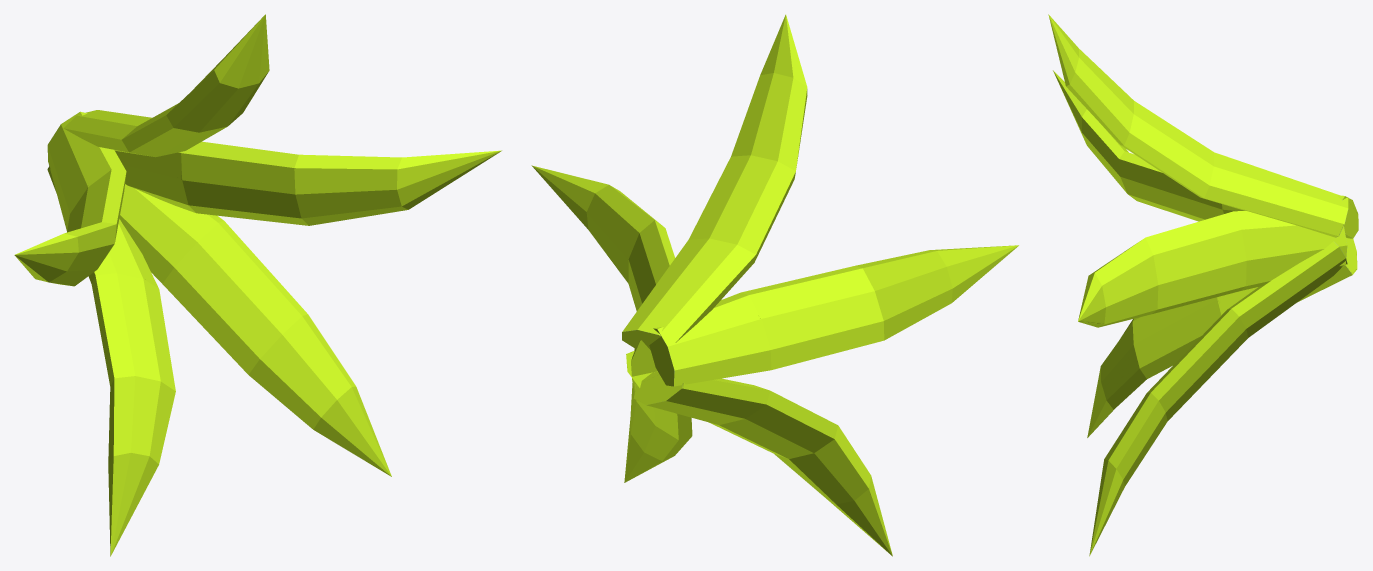
Rendered from plantD.glb.
The picture shows the model from 3 angles, left to right: view 1: azimuth 30°, elevation 25°; view 2: azimuth 150°, elevation 25°; view 3: azimuth 270°, elevation 25°; orthographic projection. The views are drawn at different scales.
Visible parts, largest first — view 1: Cylinder.002; view 2: Cylinder.002; view 3: Cylinder.002.
Boxes of the visible parts, x1=… form: Cylinder.002: x1=14, y1=14, x2=501, y2=556; Cylinder.002: x1=531, y1=14, x2=1018, y2=556; Cylinder.002: x1=1048, y1=14, x2=1358, y2=556.
Size of the model in its own units: 1.33 by 1.33 by 0.7699.
Materials: 1 (1 with a texture image).
